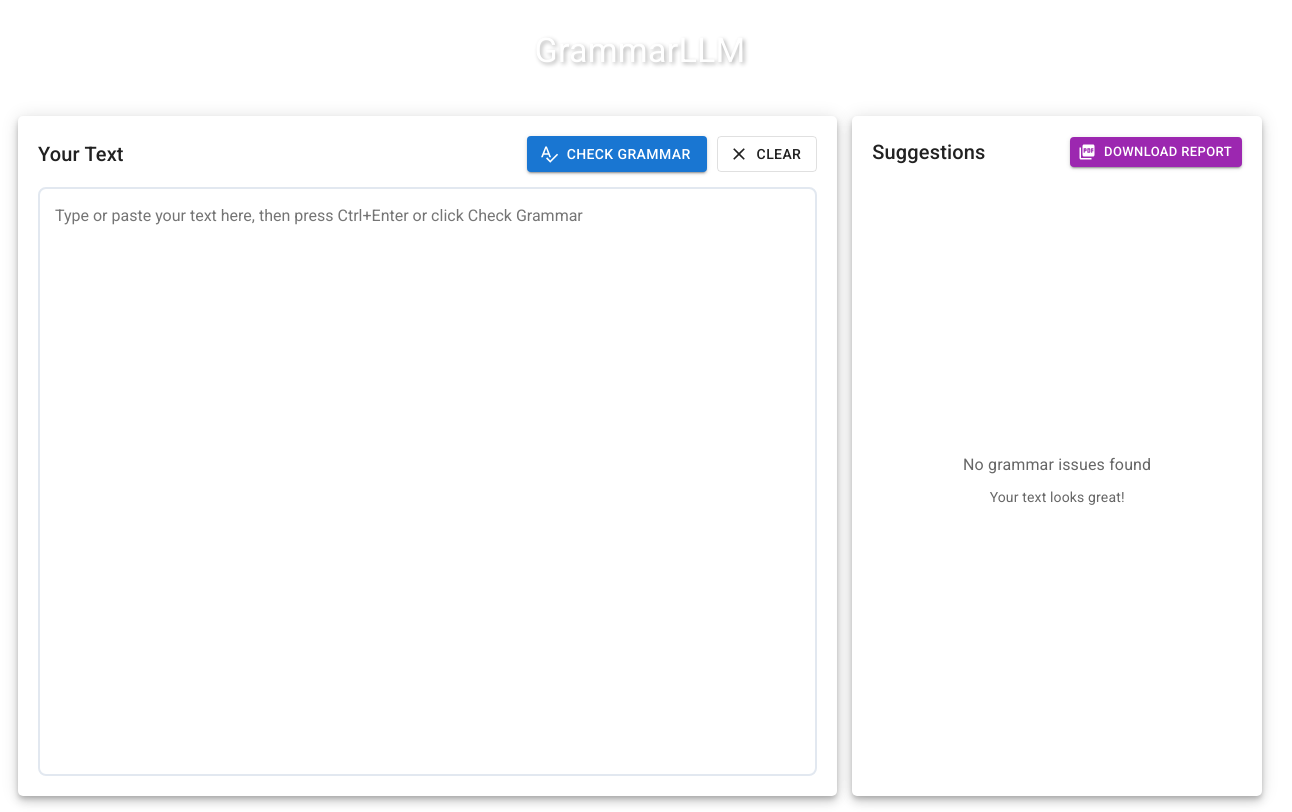
Scenario: editor mirror alignment › renders exactly the editor text, even with an insertion fix
Replace the text in the text box with "I run fast." at coordinates (428, 482), box [38,188,817,776]
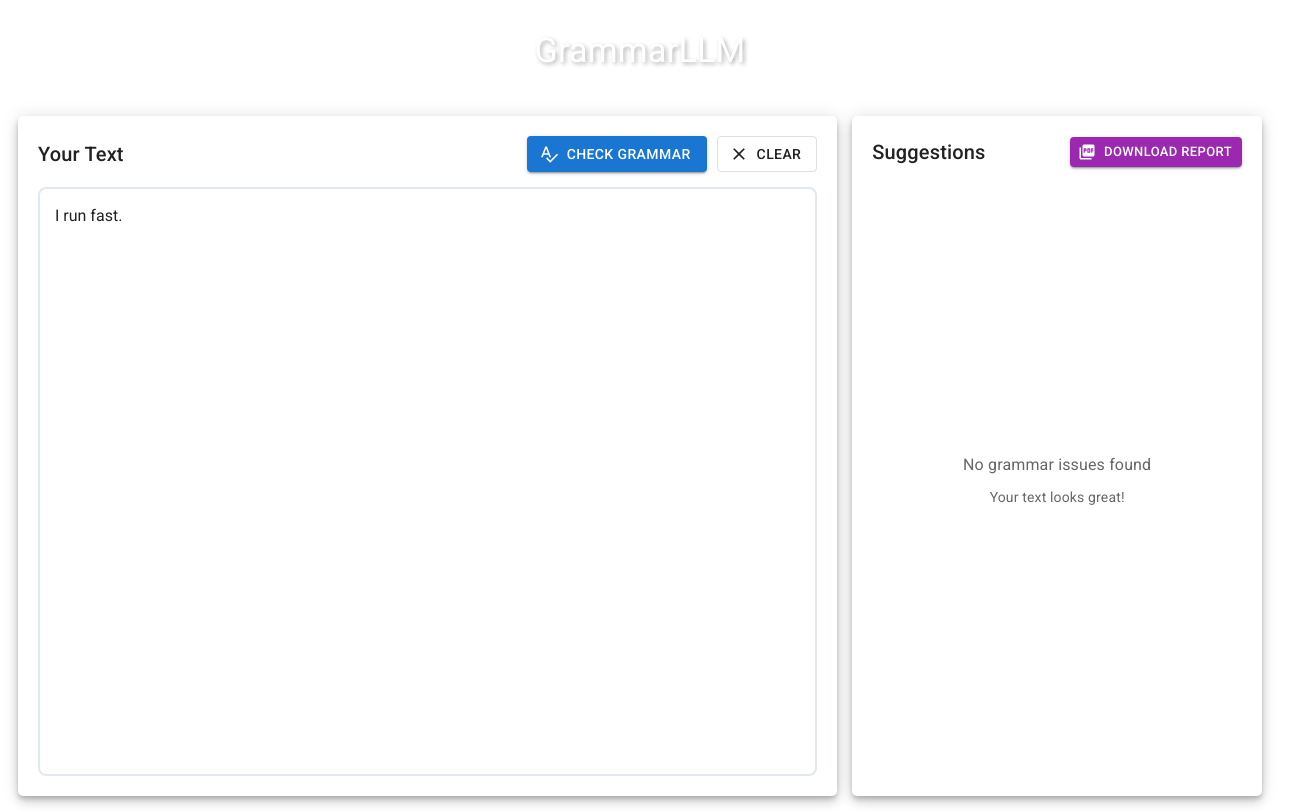
Click the button "Check Grammar" at coordinates (617, 154), box [527,136,707,172]
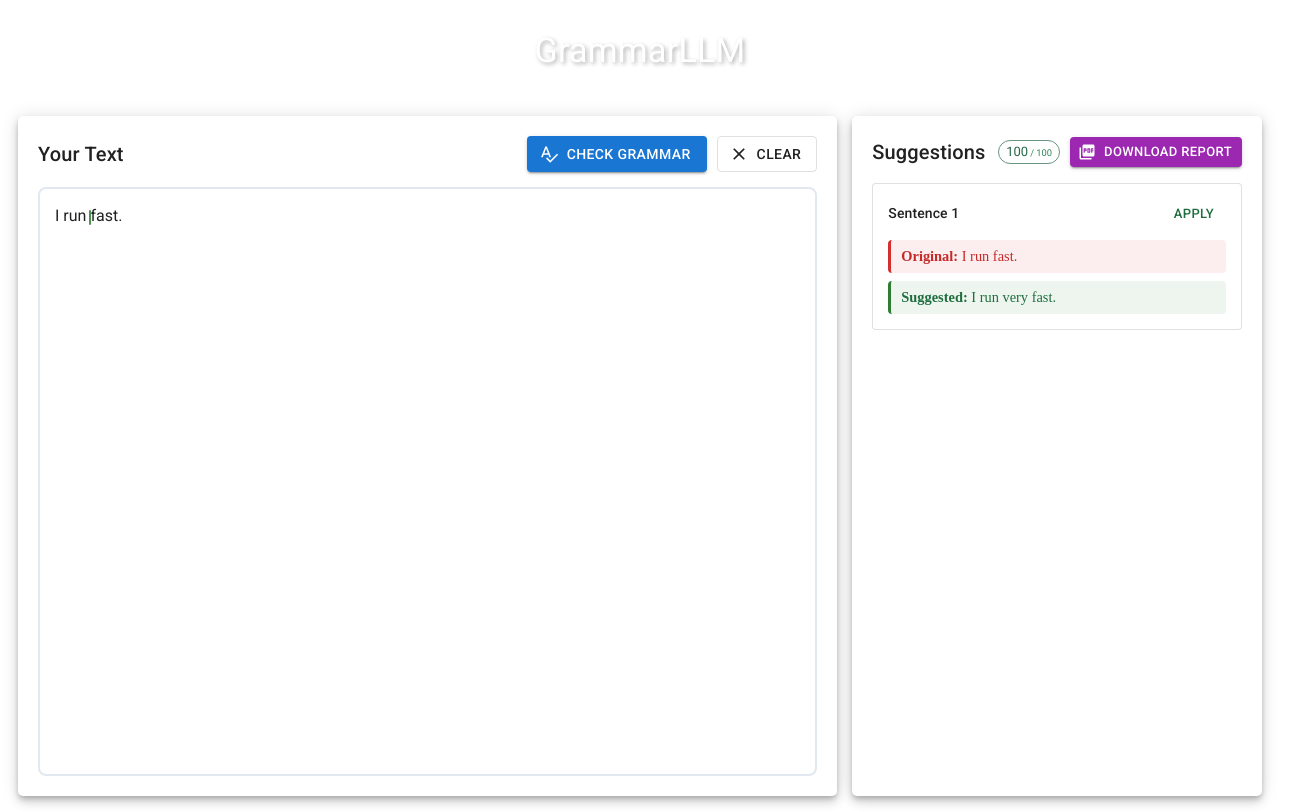
Expected: the element showing "I run fast." is shown, [38,188,817,776]
